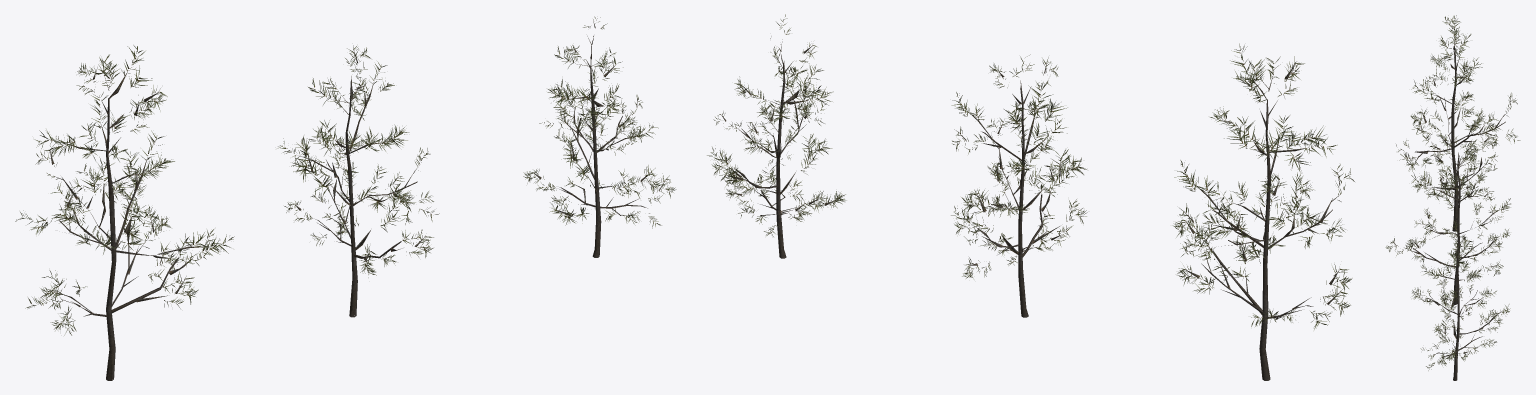
Rendered from pine_small_a_lod0.gltf.
3 views of the same model, side by side, from view 1: azimuth 30°, elevation 25°; view 2: azimuth 150°, elevation 25°; view 3: azimuth 270°, elevation 25° (orthographic). The views are drawn at different scales.
Parts seen in each view (by area): view 1: pine_sapling_small_a, pine_sapling_small_b, pine_sapling_small_c, pine_sapling_small_a.001, pine_sapling_small_b.001, pine_sapling_small_c.001; view 2: pine_sapling_small_a, pine_sapling_small_b, pine_sapling_small_c, pine_sapling_small_a.001, pine_sapling_small_b.001, pine_sapling_small_c.001; view 3: pine_sapling_small_a, pine_sapling_small_b, pine_sapling_small_c, pine_sapling_small_a.001, pine_sapling_small_b.001, pine_sapling_small_c.001.
Boxes of the visible parts, <box> form: pine_sapling_small_a: <box>15,45,234,335</box>; pine_sapling_small_b: <box>277,45,439,277</box>; pine_sapling_small_c: <box>523,16,676,228</box>; pine_sapling_small_a.001: <box>59,98,179,380</box>; pine_sapling_small_b.001: <box>315,77,417,317</box>; pine_sapling_small_c.001: <box>559,36,647,257</box>; pine_sapling_small_a: <box>1172,43,1354,329</box>; pine_sapling_small_b: <box>951,54,1087,278</box>; pine_sapling_small_c: <box>707,14,846,236</box>; pine_sapling_small_a.001: <box>1201,99,1332,380</box>; pine_sapling_small_b.001: <box>981,83,1043,317</box>; pine_sapling_small_c.001: <box>741,44,804,258</box>; pine_sapling_small_a: <box>1396,15,1520,198</box>; pine_sapling_small_b: <box>1385,135,1510,276</box>; pine_sapling_small_c: <box>1412,226,1510,370</box>; pine_sapling_small_a.001: <box>1417,50,1505,231</box>; pine_sapling_small_b.001: <box>1413,153,1495,304</box>; pine_sapling_small_c.001: <box>1430,241,1501,380</box>.
Bounding box in the file's own units: 2.64 × 1.3 × 0.7632.
2 materials, 2 textured.
